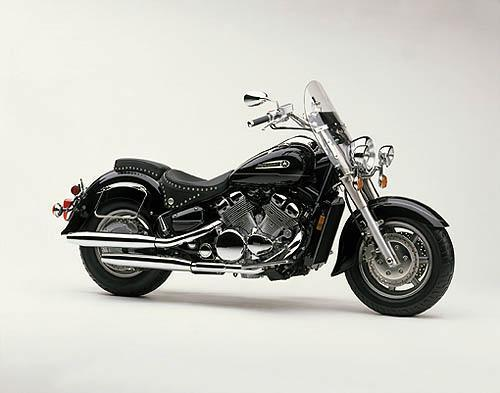motorcycle: (48, 70, 469, 327)
